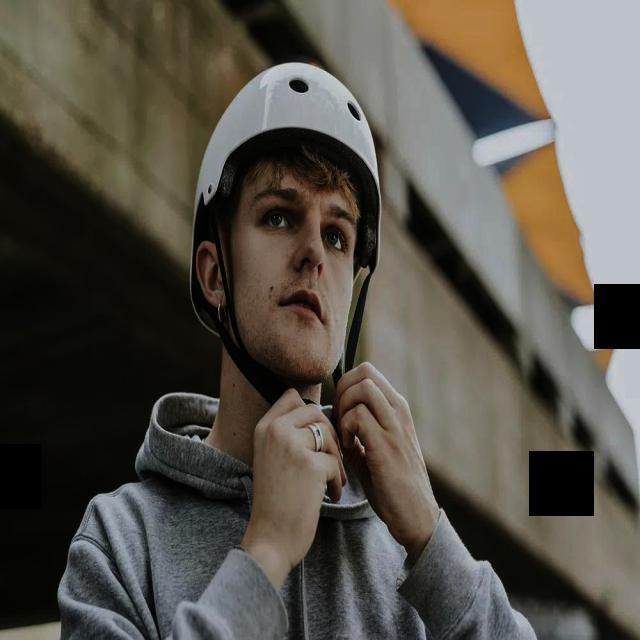helmet: (160, 17, 451, 264)
